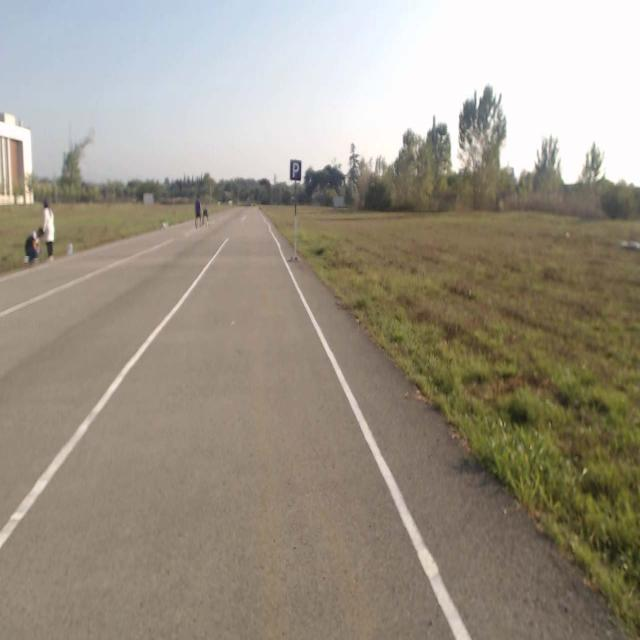park: (290, 160, 300, 182)
